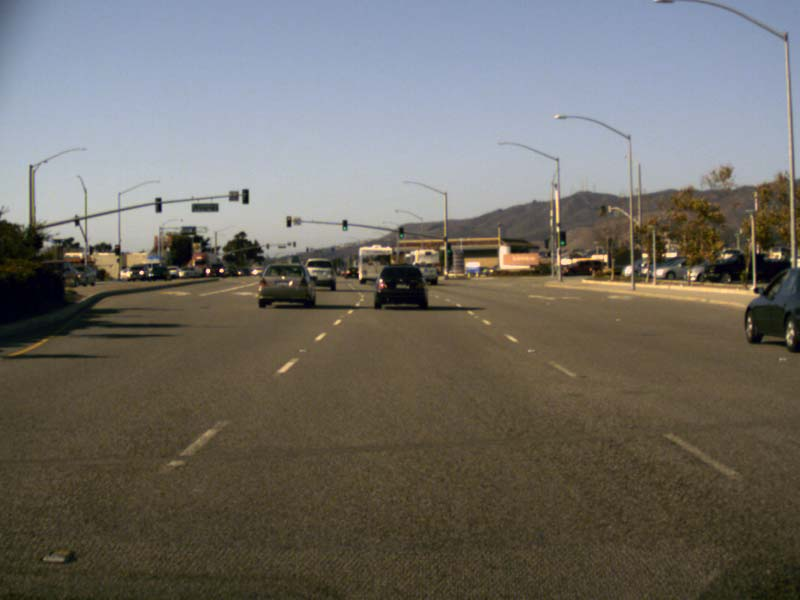Green: (558, 230, 565, 246), (398, 227, 403, 238), (342, 219, 346, 231), (447, 243, 451, 253)
Red: (286, 216, 291, 227), (115, 244, 119, 255)
